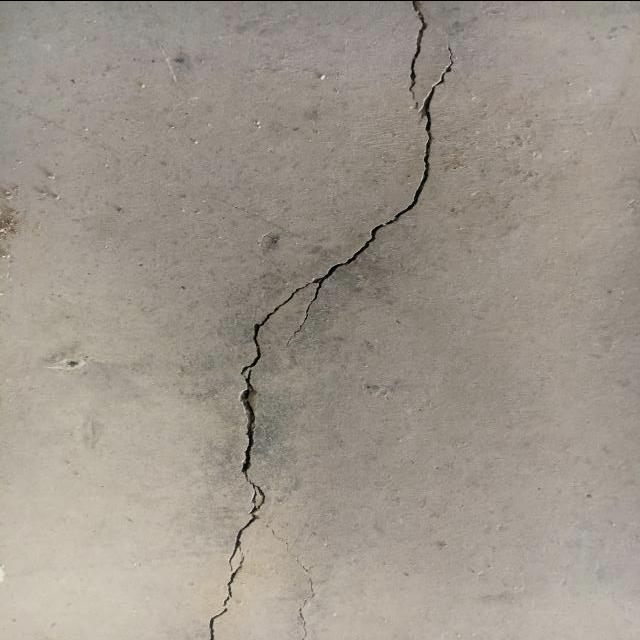SurfaceCrack: (184, 1, 481, 640)
